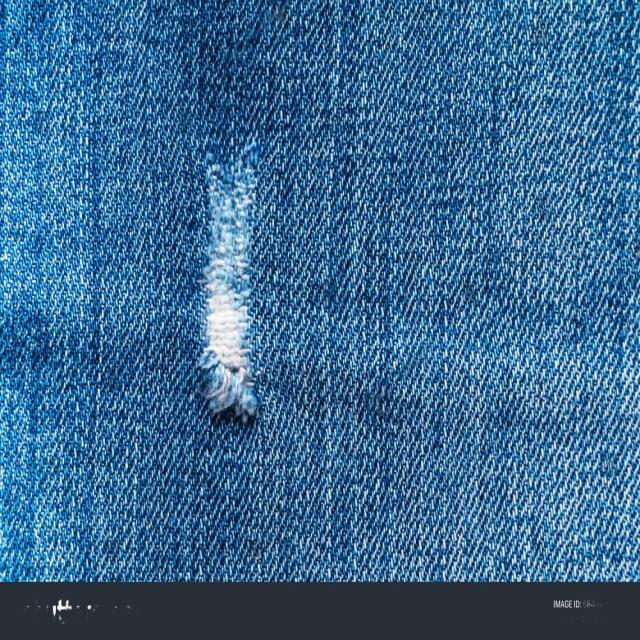Hole: (198, 140, 259, 423)
